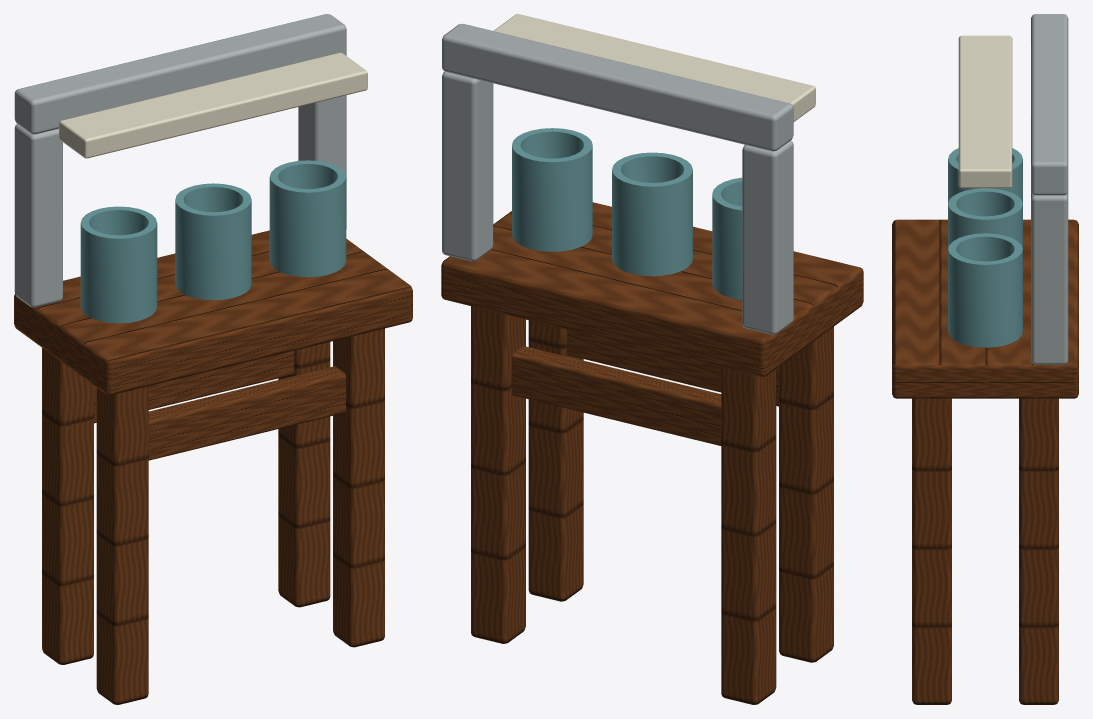
The model's file is survival-greenhouse-and-irrigation-rooting-station-93c318f2__21334.glb.
3 views of the same model, side by side, from view 1: azimuth 30°, elevation 25°; view 2: azimuth 150°, elevation 25°; view 3: azimuth 270°, elevation 25° (orthographic). The views are drawn at different scales.
Parts seen in each view (by area): view 1: rooting-station_0, rooting-station_2, rooting-station_1, rooting-station_3; view 2: rooting-station_0, rooting-station_2, rooting-station_1, rooting-station_3; view 3: rooting-station_0, rooting-station_2, rooting-station_1, rooting-station_3.
Part boxes in pixels (x1,y1,x2,y2): rooting-station_0: (14,230,412,704); rooting-station_2: (14,14,346,307); rooting-station_1: (80,160,346,323); rooting-station_3: (59,52,367,158); rooting-station_0: (441,202,863,704); rooting-station_2: (442,23,793,334); rooting-station_1: (512,128,742,299); rooting-station_3: (493,14,815,121); rooting-station_0: (892,219,1078,704); rooting-station_2: (1031,14,1068,364); rooting-station_1: (948,148,1022,347); rooting-station_3: (958,35,1012,188).
Bounding box in the file's own units: 0.67 × 1.15 × 0.35.
4 materials, 1 textured.
